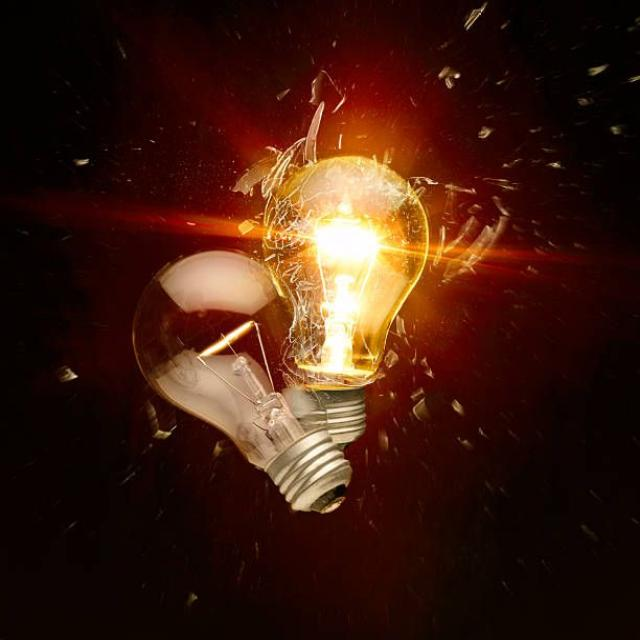electronic: (130, 247, 354, 514), (257, 153, 430, 390)
